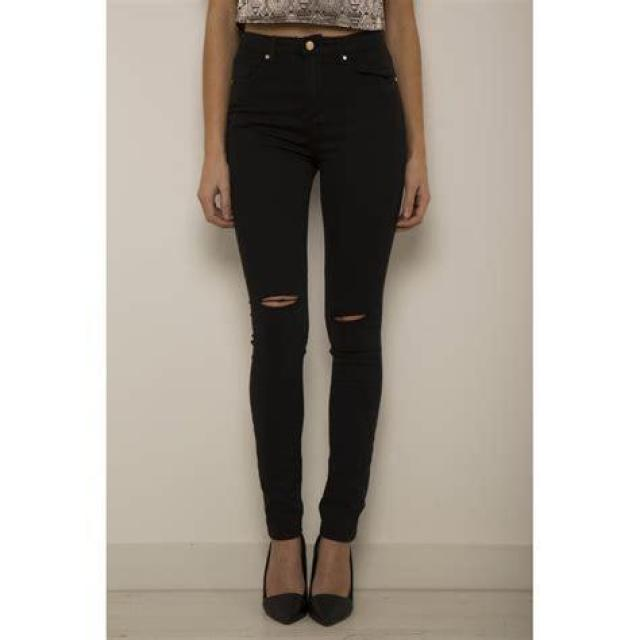pants: (223, 30, 406, 545)
